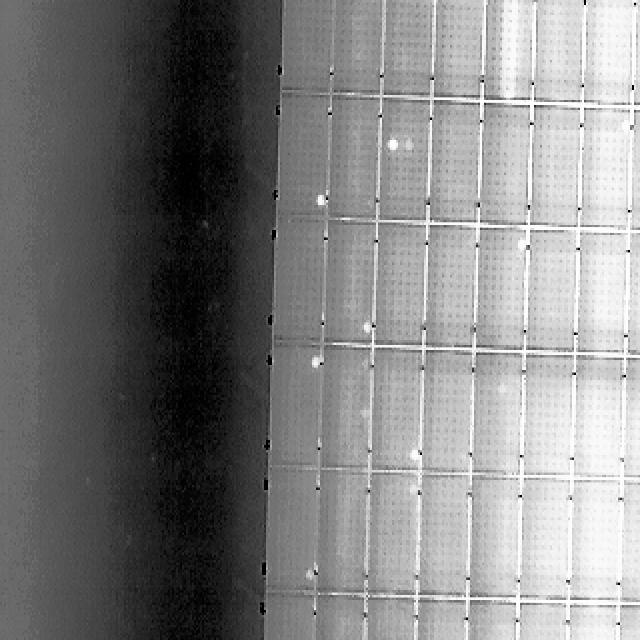Hotspots: (404, 439, 423, 467), (387, 130, 405, 155), (413, 439, 428, 466), (303, 351, 320, 374), (317, 190, 333, 214)
PV-modules: (371, 345, 425, 472), (312, 468, 366, 594), (316, 343, 369, 469), (371, 222, 424, 347), (332, 92, 385, 217), (368, 476, 421, 601), (330, 217, 382, 344), (420, 347, 472, 474), (418, 471, 470, 598), (529, 109, 582, 233), (277, 92, 329, 218), (578, 111, 631, 234), (431, 100, 483, 225), (381, 102, 433, 227), (521, 479, 573, 603), (567, 480, 619, 604), (271, 221, 323, 345), (266, 470, 317, 596), (472, 353, 524, 476), (469, 478, 521, 601), (527, 229, 578, 354), (576, 235, 627, 359), (475, 227, 526, 351), (572, 361, 623, 485), (269, 346, 320, 470), (524, 355, 575, 478), (476, 106, 526, 230), (424, 225, 474, 348), (580, 0, 632, 108), (478, 0, 530, 105), (534, 0, 584, 108), (430, 0, 482, 102), (384, 0, 436, 98), (336, 0, 388, 98), (280, 0, 330, 95), (618, 480, 640, 605), (263, 594, 316, 640), (316, 596, 369, 640), (462, 600, 518, 640), (366, 598, 418, 640), (412, 600, 465, 640), (518, 603, 570, 640), (565, 605, 616, 640), (626, 363, 640, 485), (628, 238, 640, 360), (632, 0, 640, 110), (616, 605, 640, 640), (634, 113, 640, 235)
